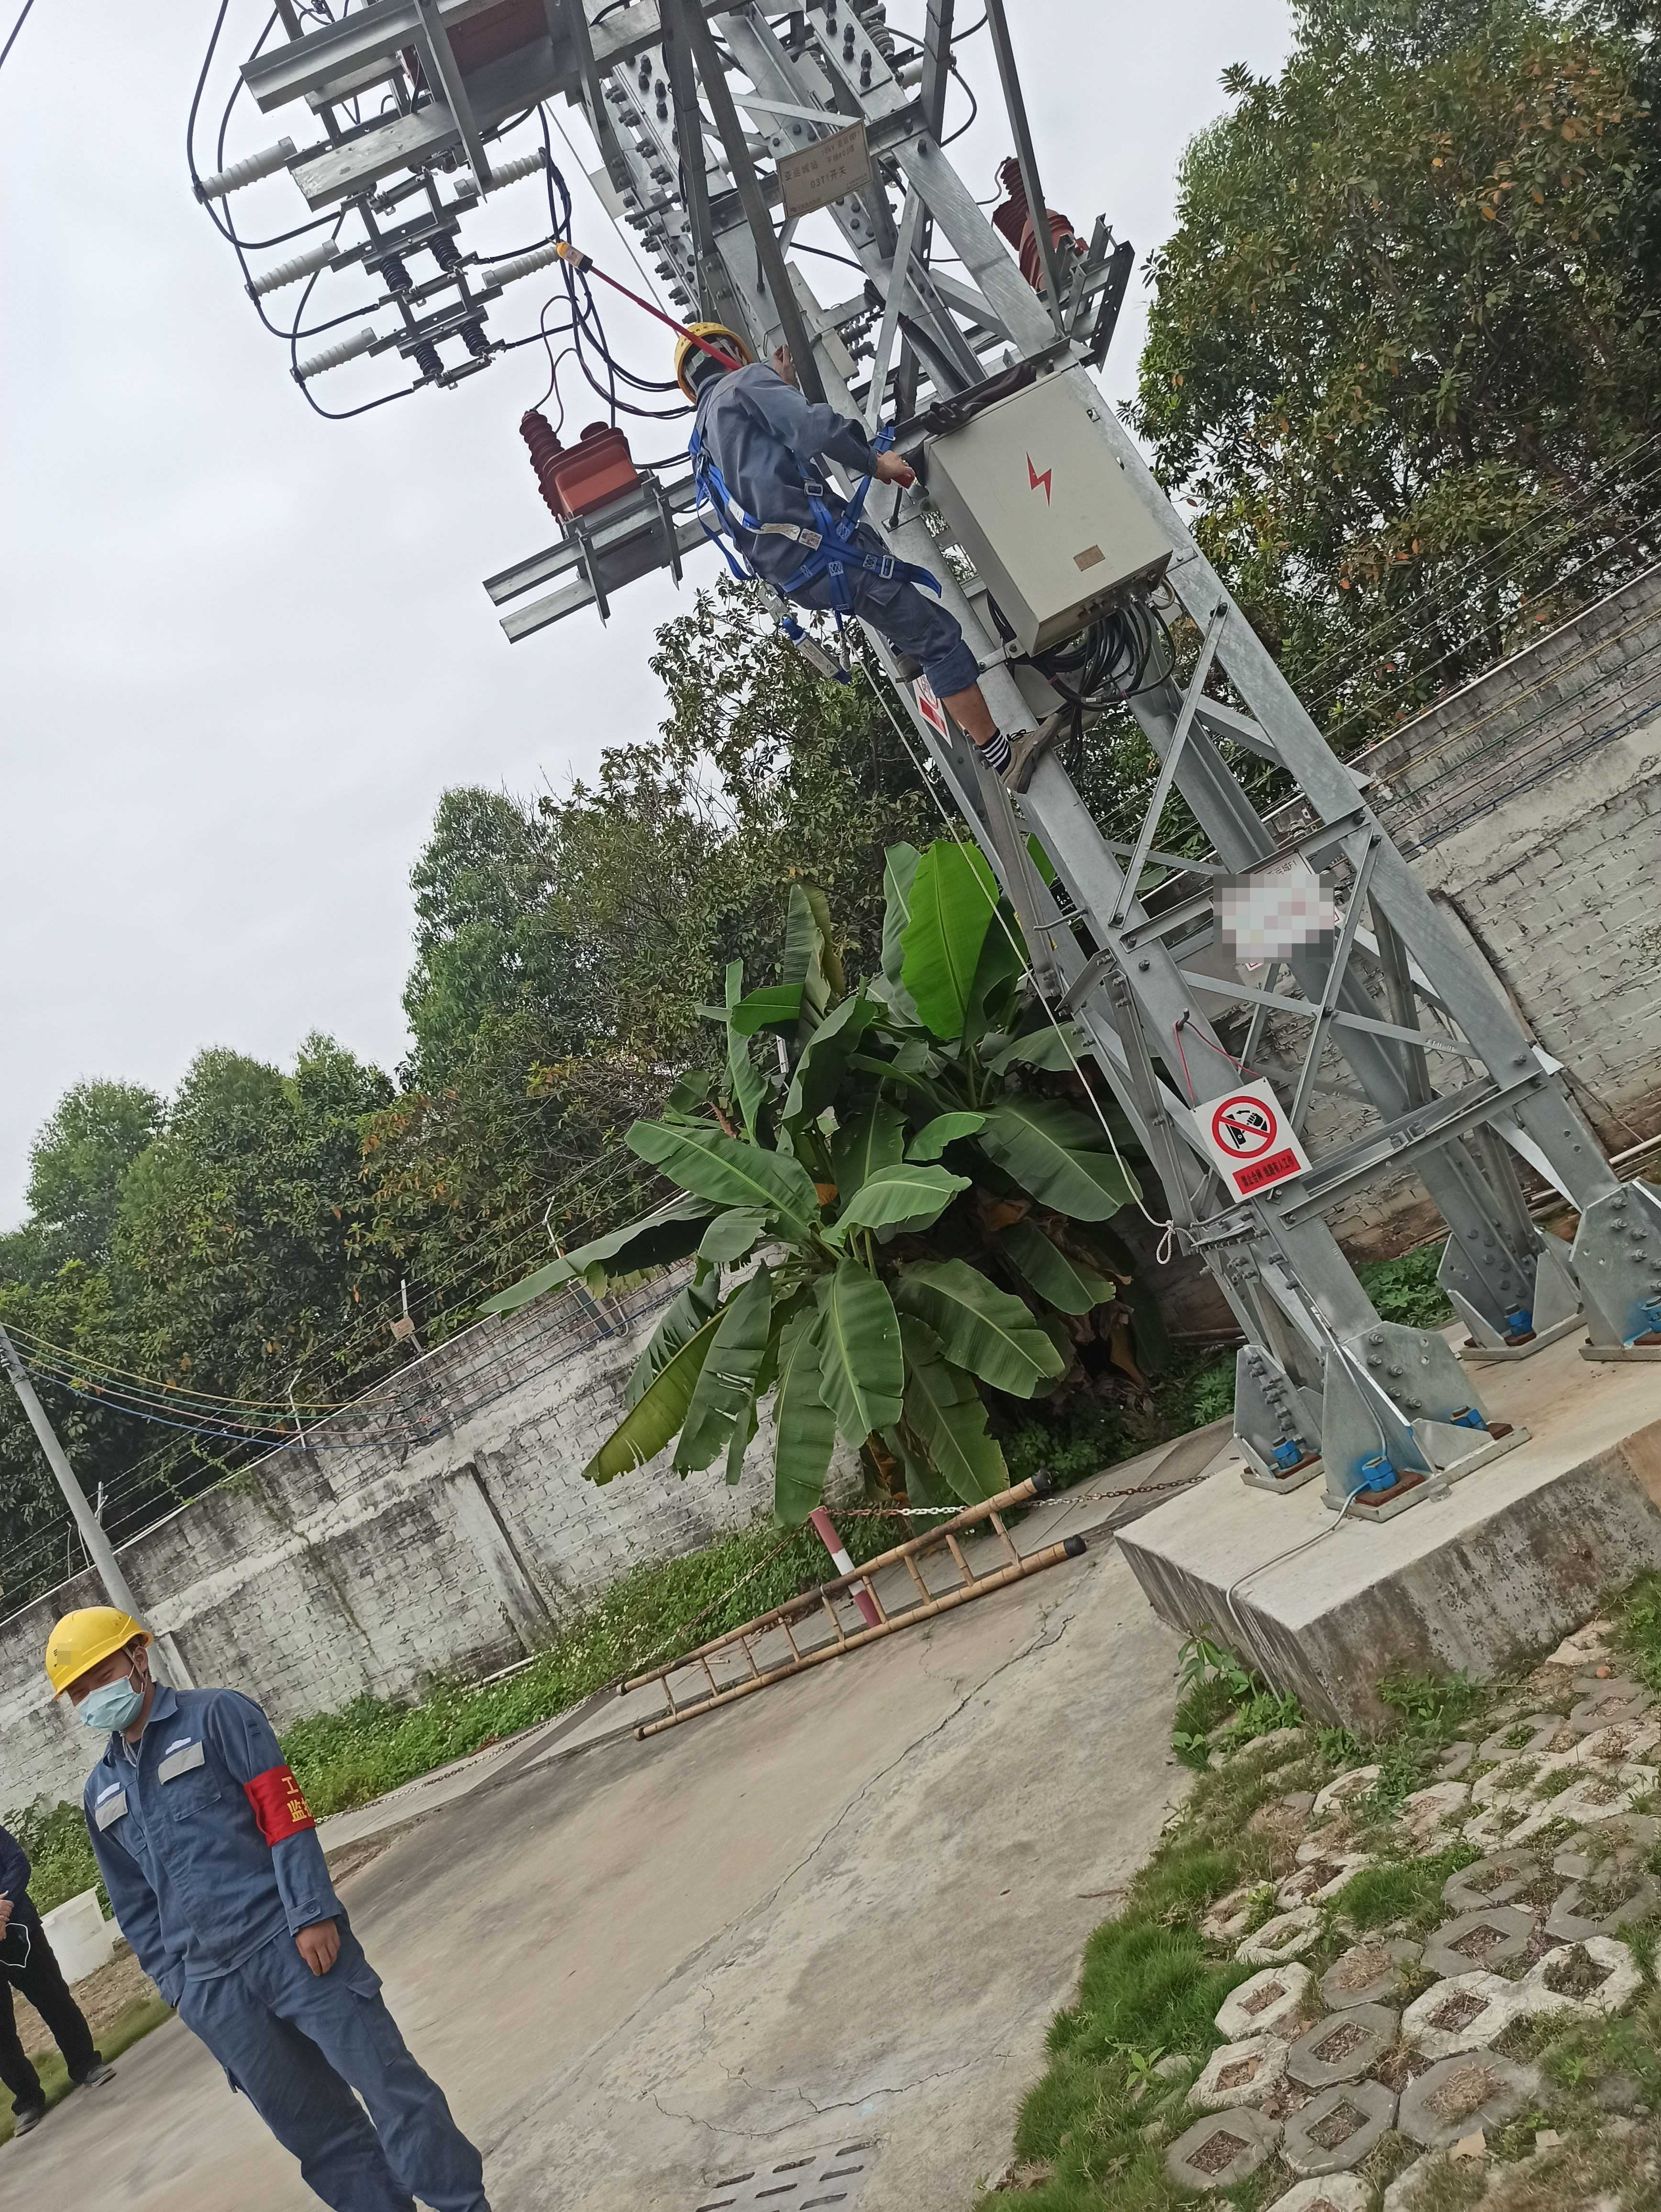downcloth: (5, 1915, 92, 2111)
downsuit: (178, 1935, 490, 2212), (789, 530, 995, 703)
upsuit: (82, 1690, 342, 1973), (677, 366, 858, 581)
wrongbottom: (926, 640, 1005, 757)
